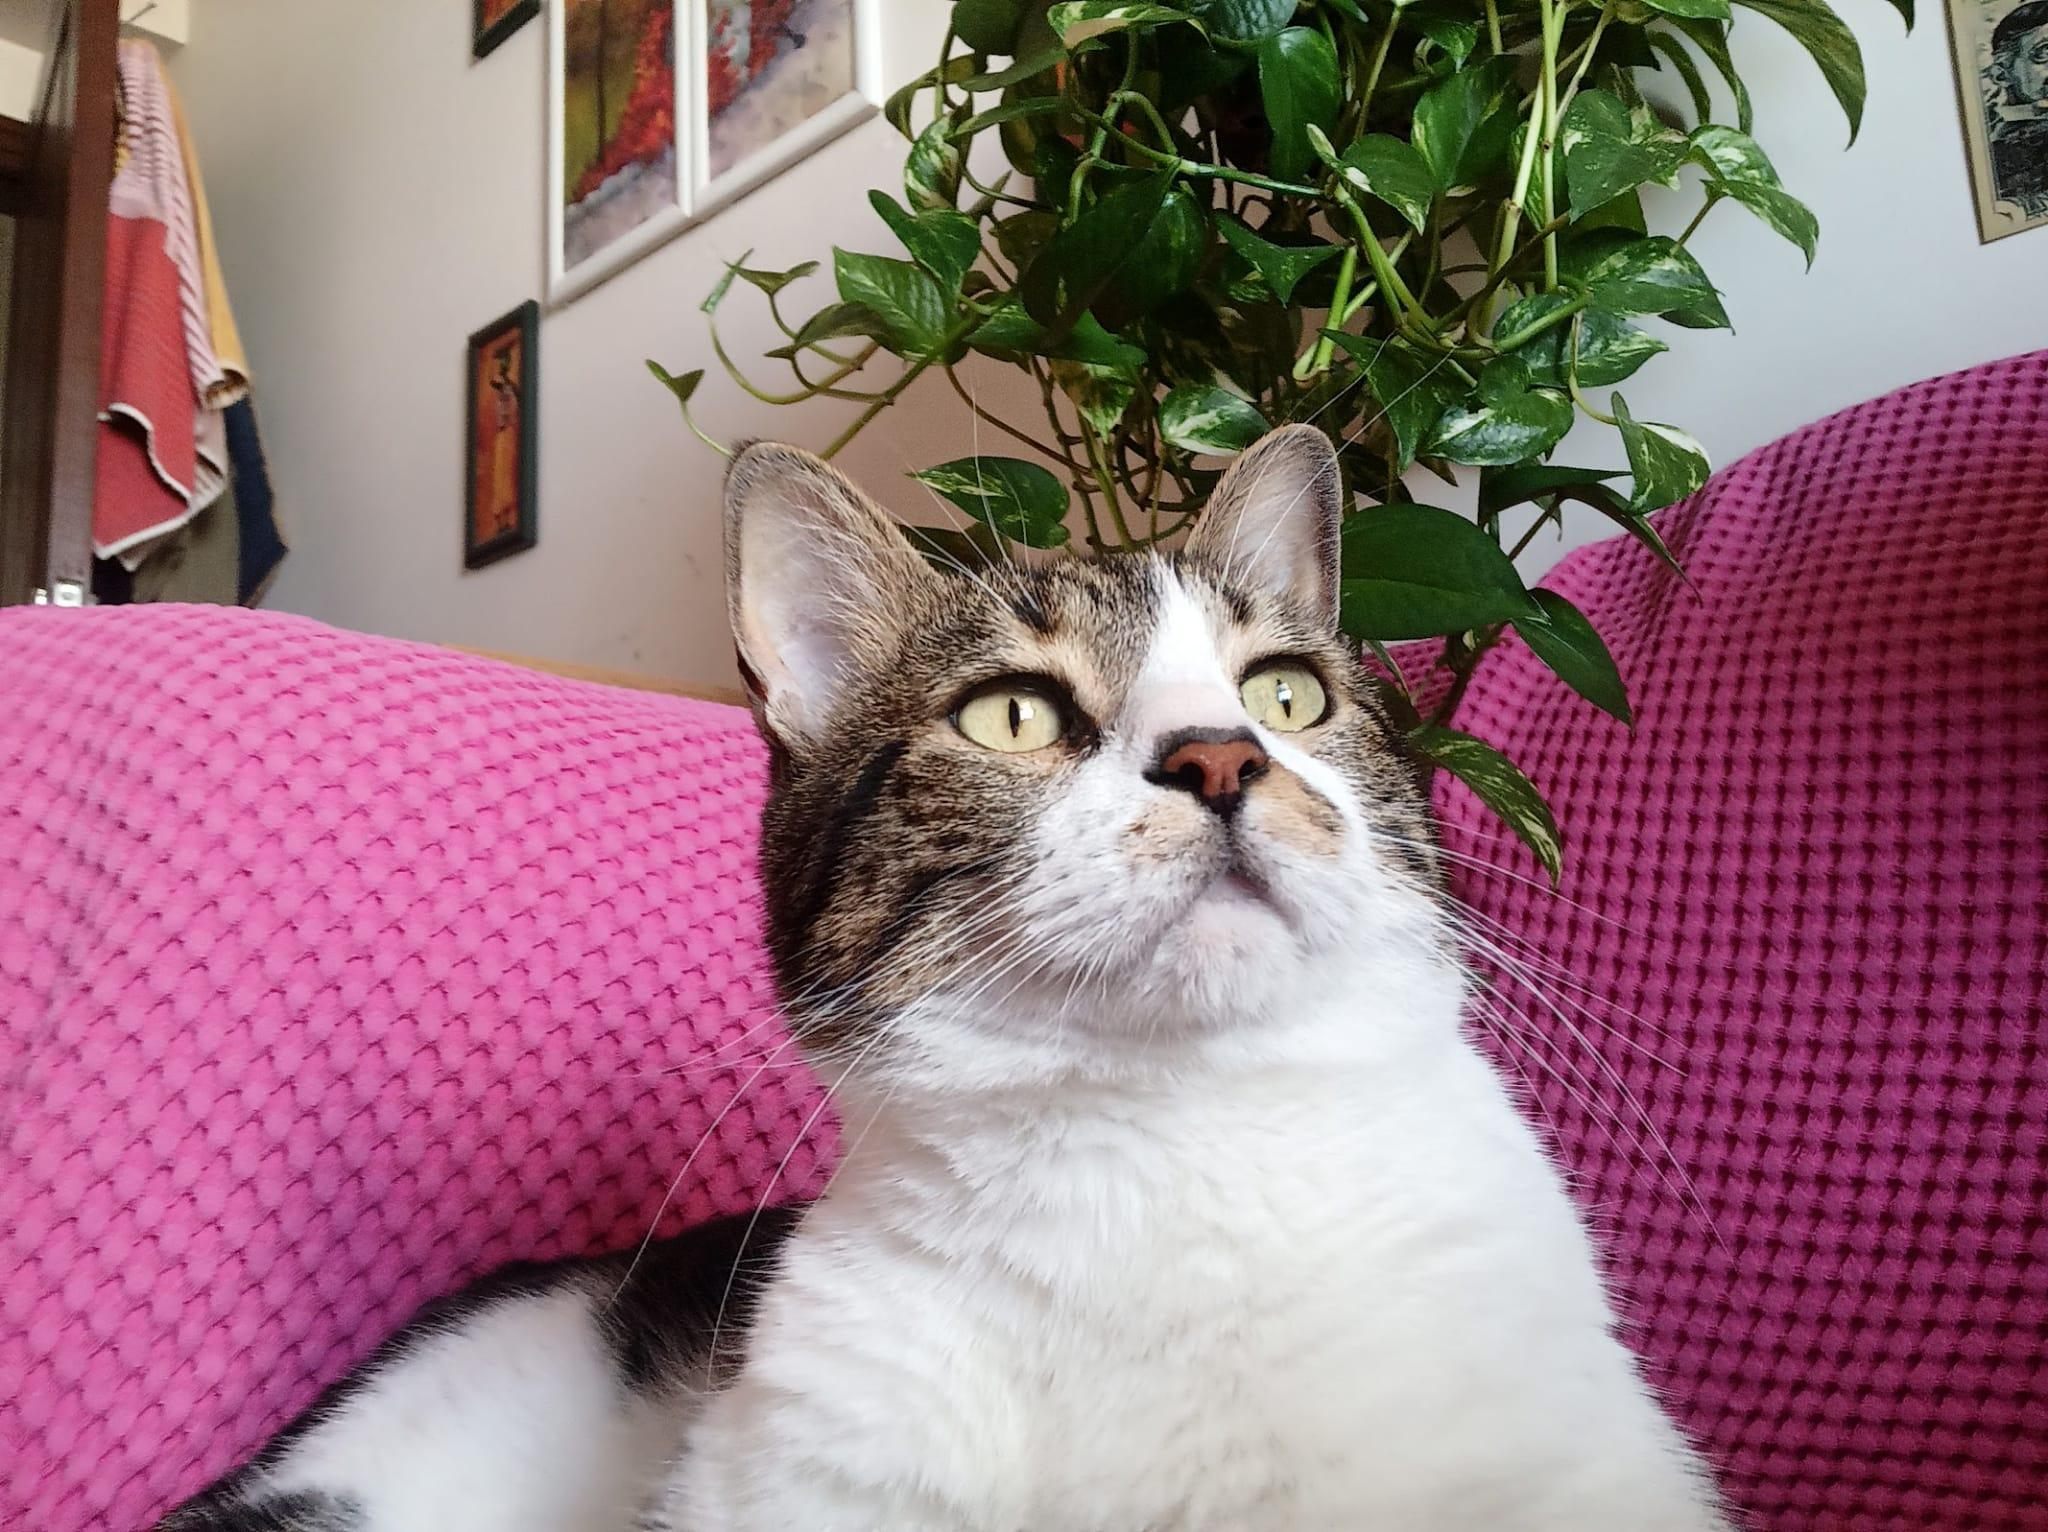kedo: (143, 422, 1729, 1532)
